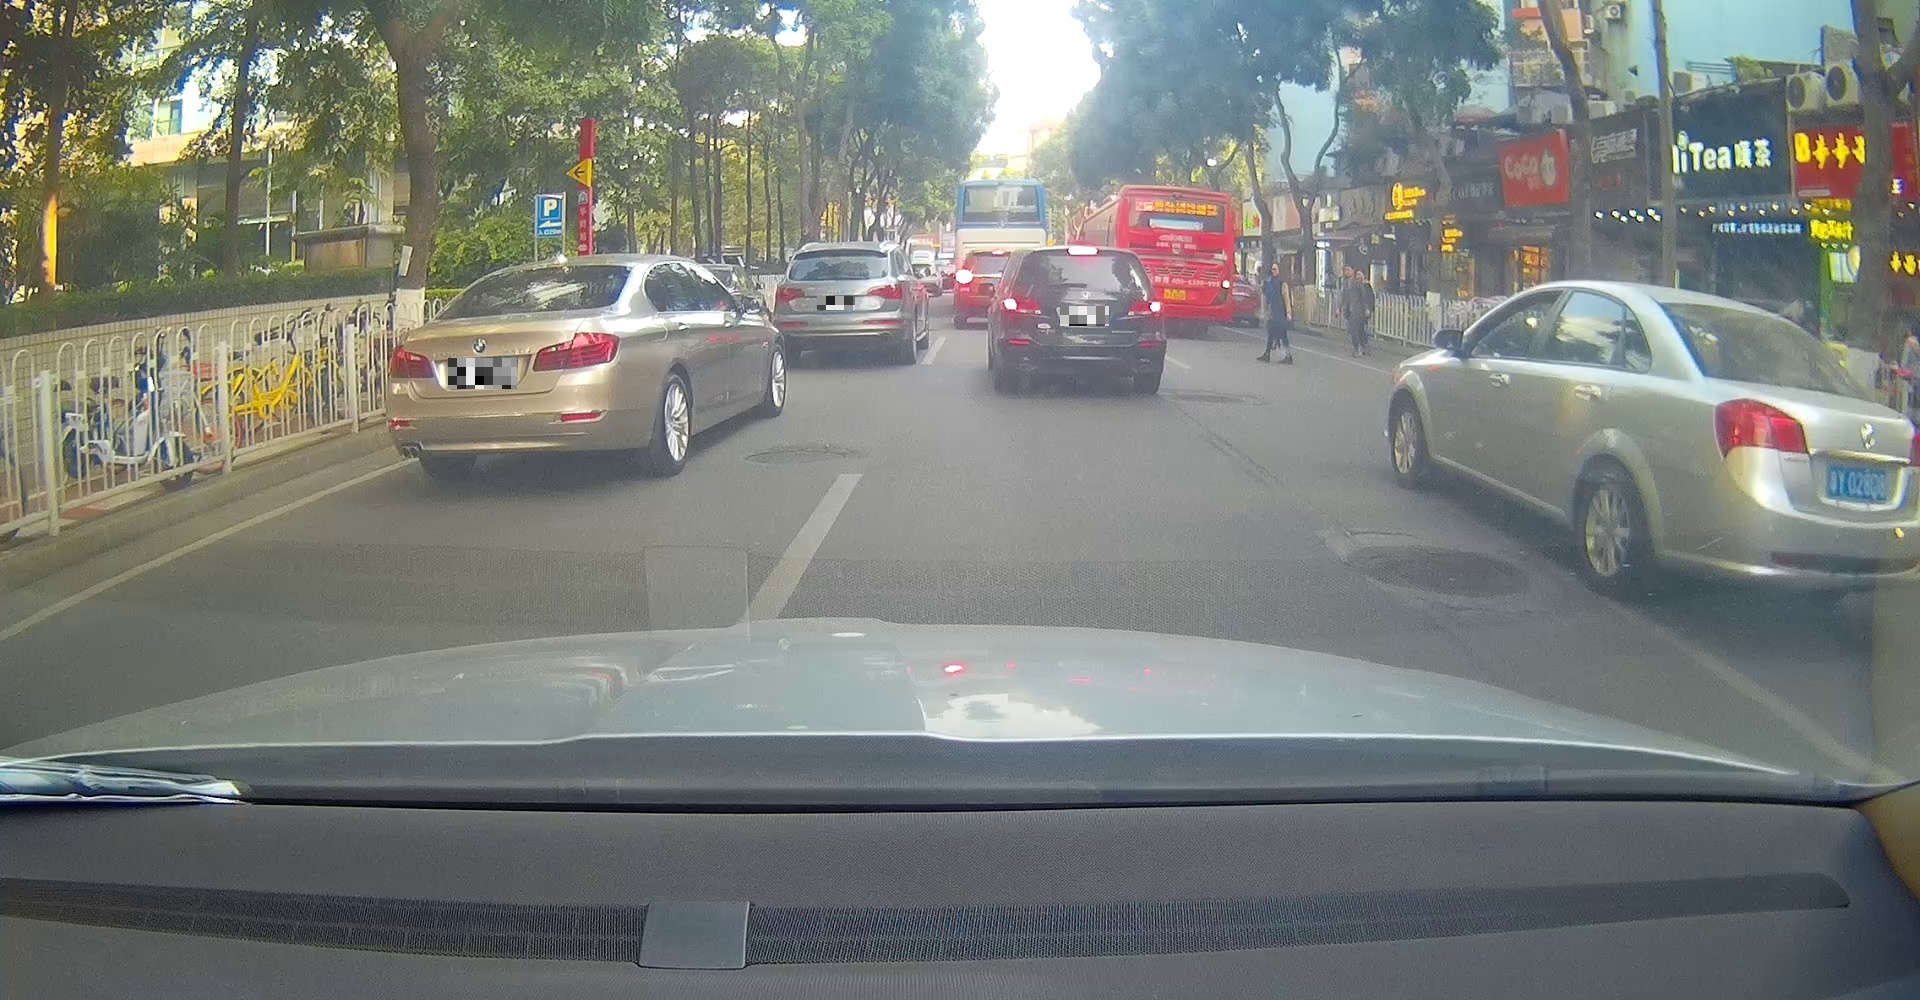L_light: (389, 344, 434, 379), (1001, 296, 1043, 315), (775, 286, 805, 299)
R_light: (532, 332, 618, 372), (1128, 301, 1161, 317), (869, 284, 902, 299)
T_light: (1068, 246, 1098, 256), (533, 266, 569, 274), (834, 251, 853, 256)
day-brake: (1001, 245, 1162, 393)
day-no: (383, 253, 618, 480), (770, 242, 903, 363)
plate_1: (448, 358, 517, 390)
plate_2: (817, 296, 855, 310)
plate_3: (1060, 306, 1109, 326)
